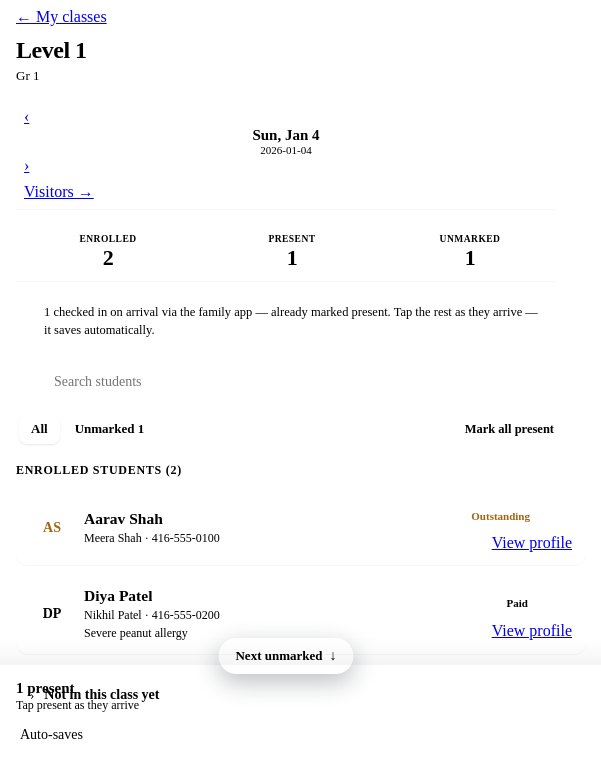
shows "Saved" after a tap auto-saves
Click the button "AS Aarav Shah Meera Shah · 416-555-0100" at (105, 518), box [32,508,451,548]
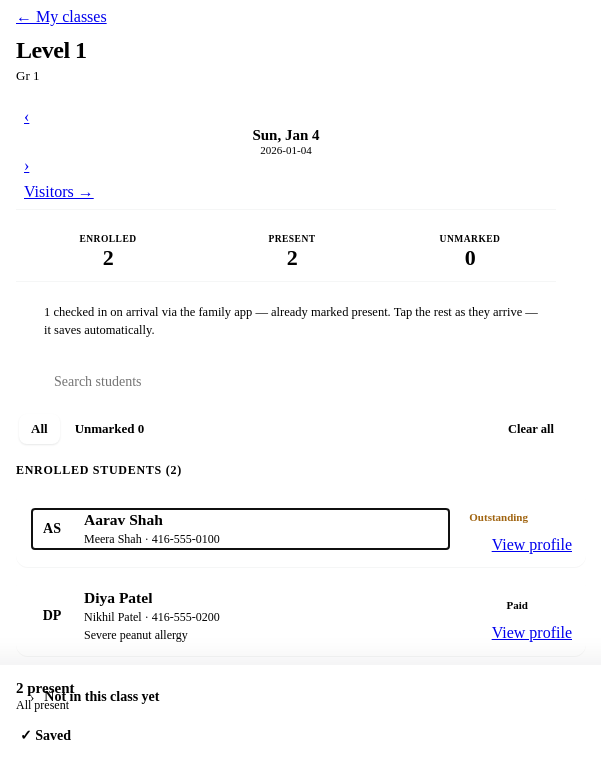
Expected: the message shows "Saved", [20,728,71,742]
